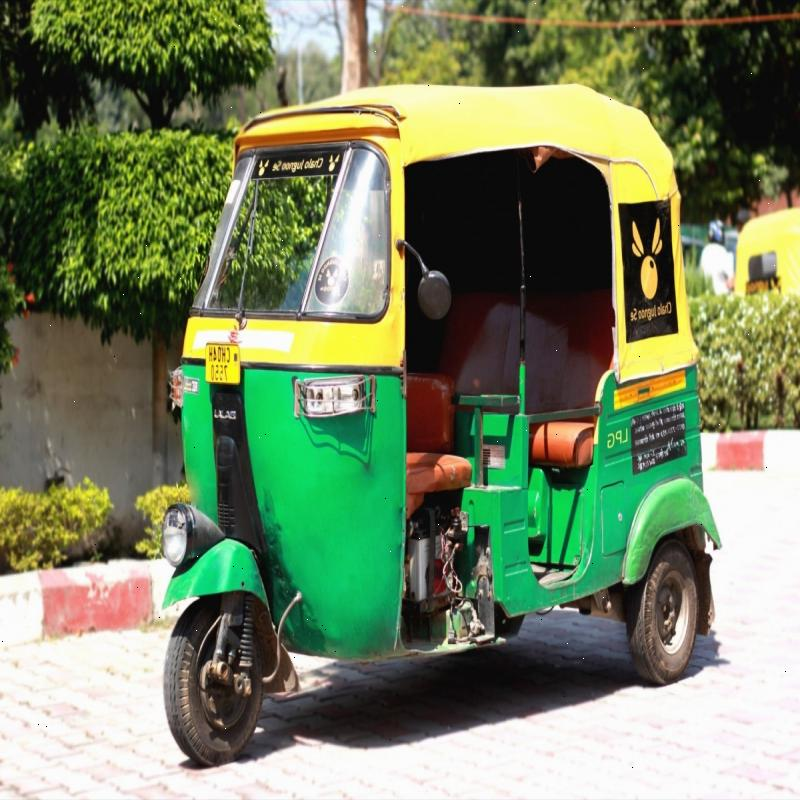bike: (163, 64, 688, 751)
